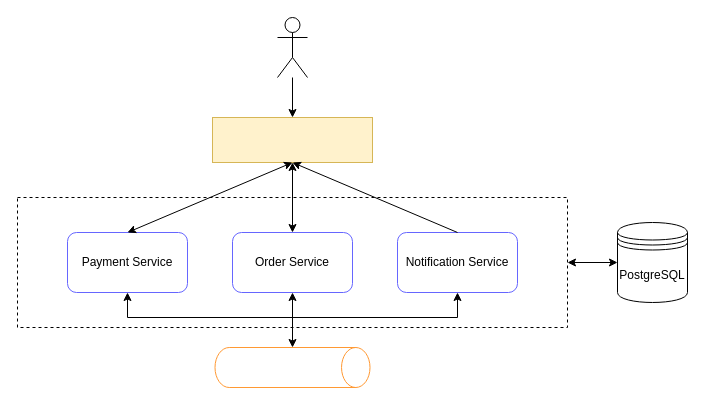
Some shapes in this 705 by 405 pixel diagram are drawn without their labels. Each missing label, with the centre of its shape:
API Gateway: the point at 292,139
Kafka: the point at 292,367
